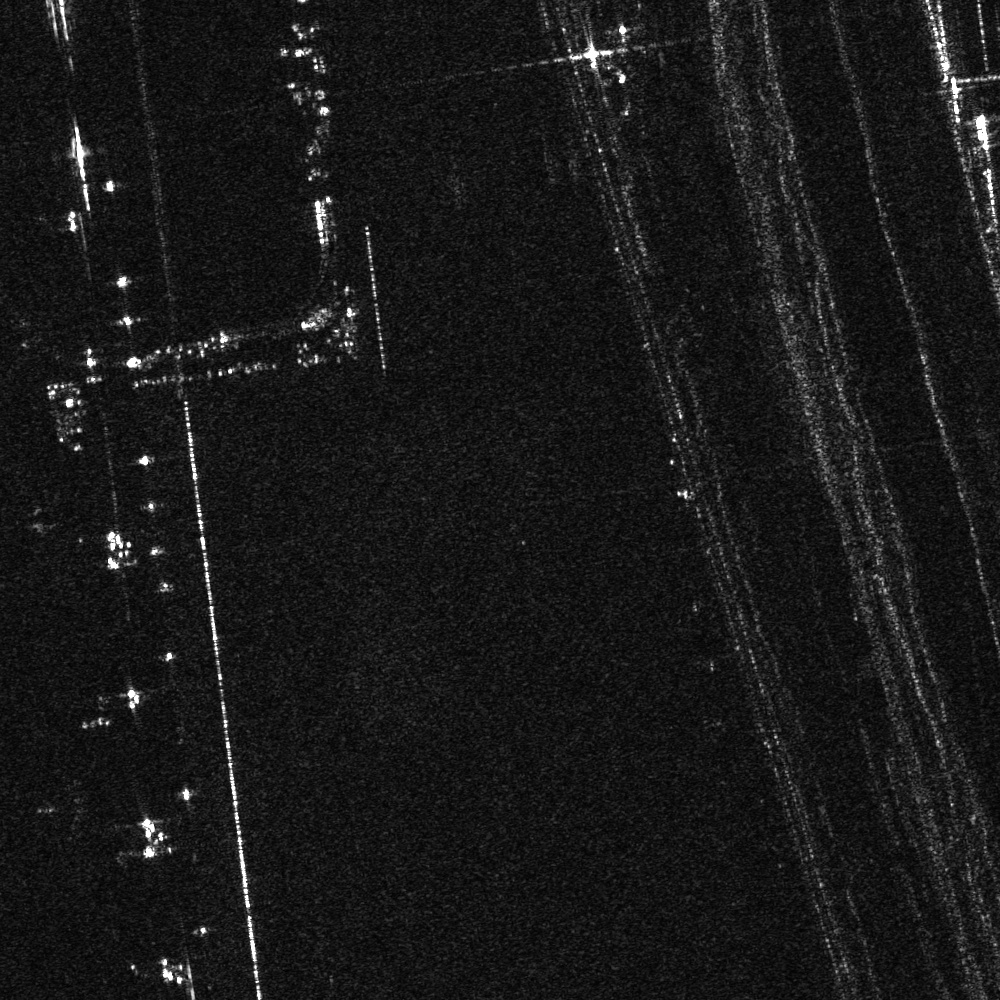Boeing787: (25, 770, 107, 844)
